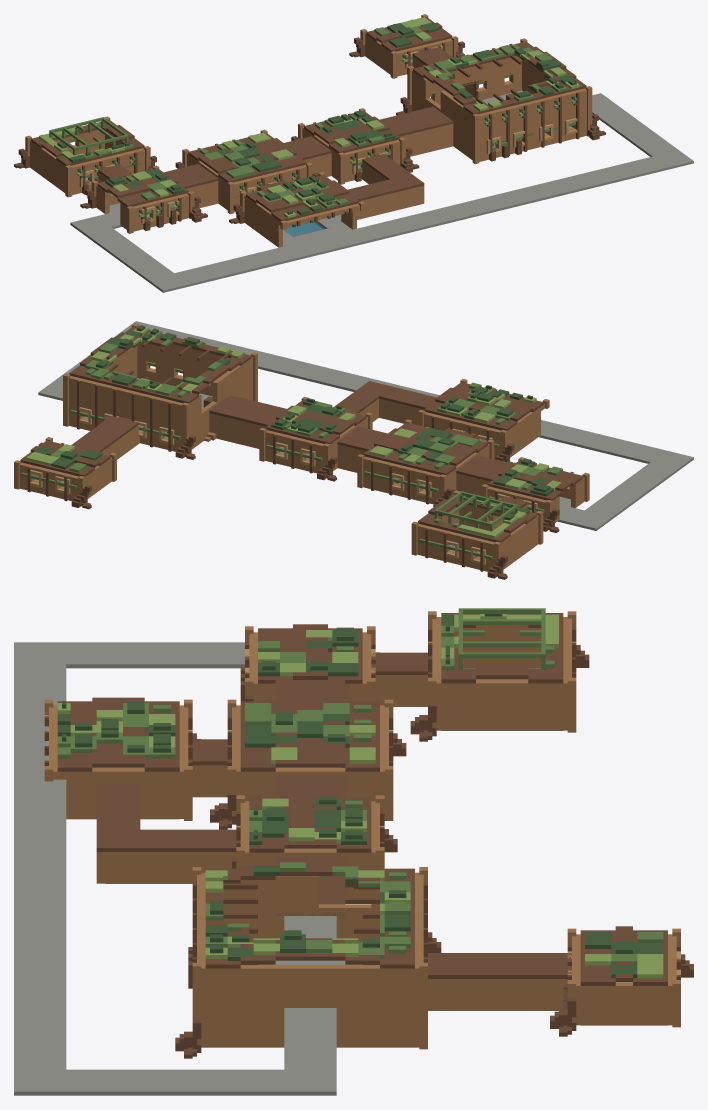
Rendered from root_manor.glb.
3 renders of one model, top to bottom at view 1: azimuth 30°, elevation 25°; view 2: azimuth 150°, elevation 25°; view 3: azimuth 270°, elevation 25°, orthographic. The views are drawn at different scales.
Parts seen in each view (by area): view 1: root_manor/room_walls, root_manor/floor_mesh, root_manor/exterior_details, root_manor/roof_arena, root_manor/corridor_walls, root_manor/roof_workshop, root_manor/roof_cistern, root_manor/roof_production, root_manor/roof_antechamber, root_manor/roof_entrance, root_manor/roof_archive, root_manor/corridor_roof_6 (+6 smaller); view 2: root_manor/room_walls, root_manor/exterior_details, root_manor/floor_mesh, root_manor/roof_arena, root_manor/corridor_walls, root_manor/roof_workshop, root_manor/roof_cistern, root_manor/roof_production, root_manor/roof_antechamber, root_manor/roof_entrance, root_manor/roof_archive, root_manor/corridor_roof_6 (+5 smaller); view 3: root_manor/room_walls, root_manor/floor_mesh, root_manor/exterior_details, root_manor/roof_arena, root_manor/corridor_walls, root_manor/roof_workshop, root_manor/roof_cistern, root_manor/roof_production, root_manor/roof_antechamber, root_manor/roof_entrance, root_manor/roof_archive, root_manor/corridor_roof_7 (+7 smaller).
Boxes of the visible parts, x1=… form: root_manor/room_walls: x1=30, y1=27, x2=586, y2=247; root_manor/floor_mesh: x1=70, y1=59, x2=693, y2=292; root_manor/exterior_details: x1=14, y1=14, x2=605, y2=233; root_manor/roof_arena: x1=413, y1=41, x2=586, y2=114; root_manor/corridor_walls: x1=97, y1=56, x2=482, y2=219; root_manor/roof_workshop: x1=188, y1=132, x2=306, y2=182; root_manor/roof_cistern: x1=246, y1=175, x2=359, y2=221; root_manor/roof_production: x1=31, y1=117, x2=144, y2=165; root_manor/roof_antechamber: x1=304, y1=110, x2=399, y2=153; root_manor/roof_entrance: x1=97, y1=168, x2=188, y2=206; root_manor/roof_archive: x1=366, y1=17, x2=452, y2=51; root_manor/corridor_roof_6: x1=379, y1=106, x2=453, y2=136; root_manor/room_walls: x1=20, y1=334, x2=584, y2=571; root_manor/exterior_details: x1=14, y1=323, x2=589, y2=579; root_manor/floor_mesh: x1=35, y1=321, x2=693, y2=557; root_manor/roof_arena: x1=69, y1=325, x2=251, y2=403; root_manor/corridor_walls: x1=101, y1=398, x2=530, y2=530; root_manor/roof_workshop: x1=363, y1=423, x2=487, y2=475; root_manor/roof_cistern: x1=424, y1=382, x2=543, y2=430; root_manor/roof_production: x1=418, y1=491, x2=536, y2=542; root_manor/roof_antechamber: x1=265, y1=398, x2=366, y2=444; root_manor/roof_entrance: x1=487, y1=458, x2=583, y2=500; root_manor/roof_archive: x1=20, y1=440, x2=110, y2=476; root_manor/corridor_roof_6: x1=209, y1=395, x2=286, y2=426; root_manor/room_walls: x1=49, y1=617, x2=676, y2=1047; root_manor/floor_mesh: x1=14, y1=642, x2=667, y2=1095; root_manor/exterior_details: x1=44, y1=611, x2=693, y2=1058; root_manor/roof_arena: x1=205, y1=861, x2=414, y2=968; root_manor/corridor_walls: x1=96, y1=675, x2=567, y2=1010; root_manor/roof_workshop: x1=240, y1=697, x2=379, y2=771; root_manor/roof_cistern: x1=57, y1=697, x2=179, y2=771; root_manor/roof_production: x1=441, y1=608, x2=563, y2=683; root_manor/roof_antechamber: x1=249, y1=793, x2=371, y2=852; root_manor/roof_entrance: x1=258, y1=624, x2=362, y2=683; root_manor/roof_archive: x1=580, y1=926, x2=667, y2=985; root_manor/corridor_roof_7: x1=428, y1=953, x2=571, y2=978.
Bounding box in the file's own units: 122 × 14 × 78.
